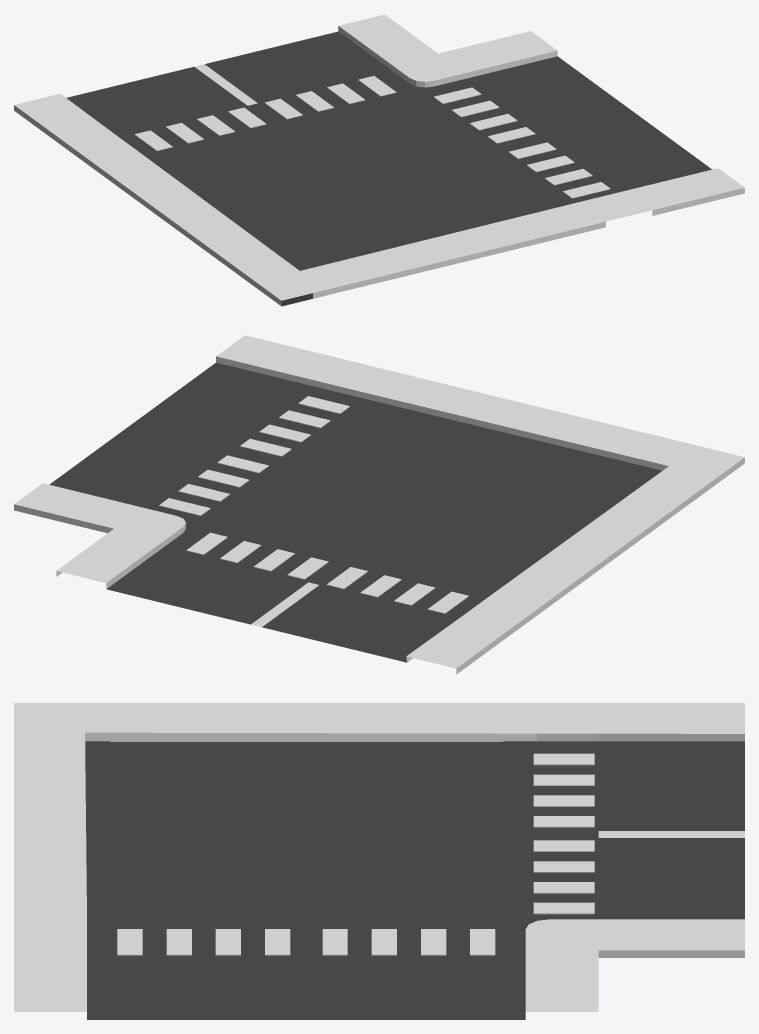
Rendered from two-lane-L-junction-left.fbx.
3 renders of one model, top to bottom at view 1: azimuth 30°, elevation 25°; view 2: azimuth 150°, elevation 25°; view 3: azimuth 270°, elevation 25°, orthographic. The views are drawn at different scales.
Visible parts, largest first — view 1: two-lane-L-junction-left; view 2: two-lane-L-junction-left; view 3: two-lane-L-junction-left.
Part boxes in pixels (<box>): two-lane-L-junction-left: <box>14,14,744,306</box>; two-lane-L-junction-left: <box>14,335,744,674</box>; two-lane-L-junction-left: <box>14,703,744,1019</box>.
Bounding box in the file's own units: 14.02 × 0.165 × 14.02.
